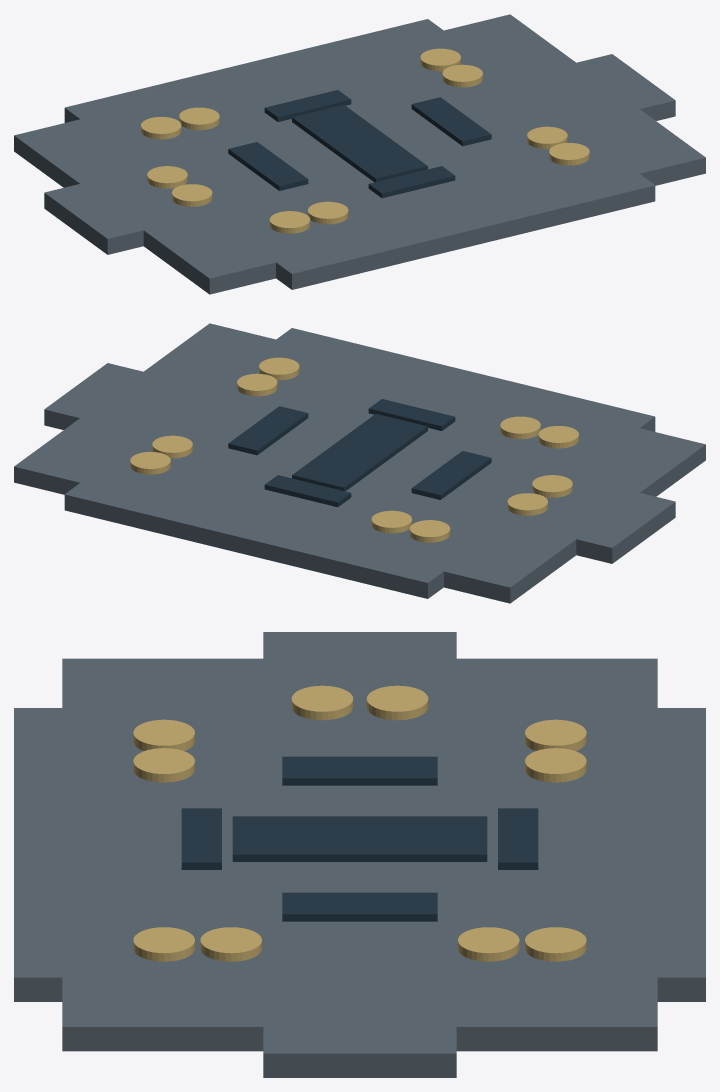
The model's file is f450_bottom_pdb.glb.
3 renders of one model, top to bottom at view 1: azimuth 30°, elevation 25°; view 2: azimuth 150°, elevation 25°; view 3: azimuth 270°, elevation 25°, orthographic. The views are drawn at different scales.
Parts seen in each view (by area): view 1: cross_z, main, cross_x, slot0, slot2, slot1, slot3, slot4, E2N, E4P, BATP, E1P (+6 smaller); view 2: main, cross_z, cross_x, slot0, slot2, slot1, slot4, slot3, E3N, E1N, BATN, E2P (+6 smaller); view 3: main, cross_x, cross_z, slot0, slot1, slot2, slot3, slot4, BATP, BATN, E2P, E3P (+6 smaller).
Boxes of the visible parts, bbox=[...] form: cross_z: bbox=[64, 19, 655, 289]; main: bbox=[14, 14, 705, 294]; cross_x: bbox=[44, 54, 675, 254]; slot0: bbox=[292, 105, 427, 182]; slot2: bbox=[411, 97, 491, 146]; slot1: bbox=[228, 142, 308, 190]; slot3: bbox=[368, 166, 455, 198]; slot4: bbox=[264, 90, 351, 121]; E2N: bbox=[269, 211, 310, 233]; E4P: bbox=[442, 64, 482, 87]; BATP: bbox=[172, 184, 212, 206]; E1P: bbox=[549, 143, 589, 165]; main: bbox=[14, 323, 705, 603]; cross_z: bbox=[64, 328, 655, 598]; cross_x: bbox=[44, 363, 675, 563]; slot0: bbox=[292, 414, 427, 491]; slot2: bbox=[228, 406, 308, 455]; slot1: bbox=[411, 451, 491, 499]; slot4: bbox=[264, 475, 351, 507]; slot3: bbox=[368, 399, 455, 430]; E3N: bbox=[409, 520, 450, 542]; E1N: bbox=[237, 373, 277, 396]; BATN: bbox=[507, 493, 547, 515]; E2P: bbox=[500, 416, 540, 439]; main: bbox=[62, 658, 657, 1051]; cross_x: bbox=[263, 632, 456, 1077]; cross_z: bbox=[14, 708, 705, 1001]; slot0: bbox=[232, 816, 487, 861]; slot1: bbox=[282, 756, 437, 785]; slot2: bbox=[282, 892, 437, 921]; slot3: bbox=[181, 808, 221, 869]; slot4: bbox=[498, 808, 538, 869]; BATP: bbox=[291, 685, 353, 720]; BATN: bbox=[366, 685, 428, 720]; E2P: bbox=[133, 748, 194, 782]; E3P: bbox=[525, 748, 586, 782].
Bounding box in the file's own units: 3.72 × 0.1425 × 2.58.
